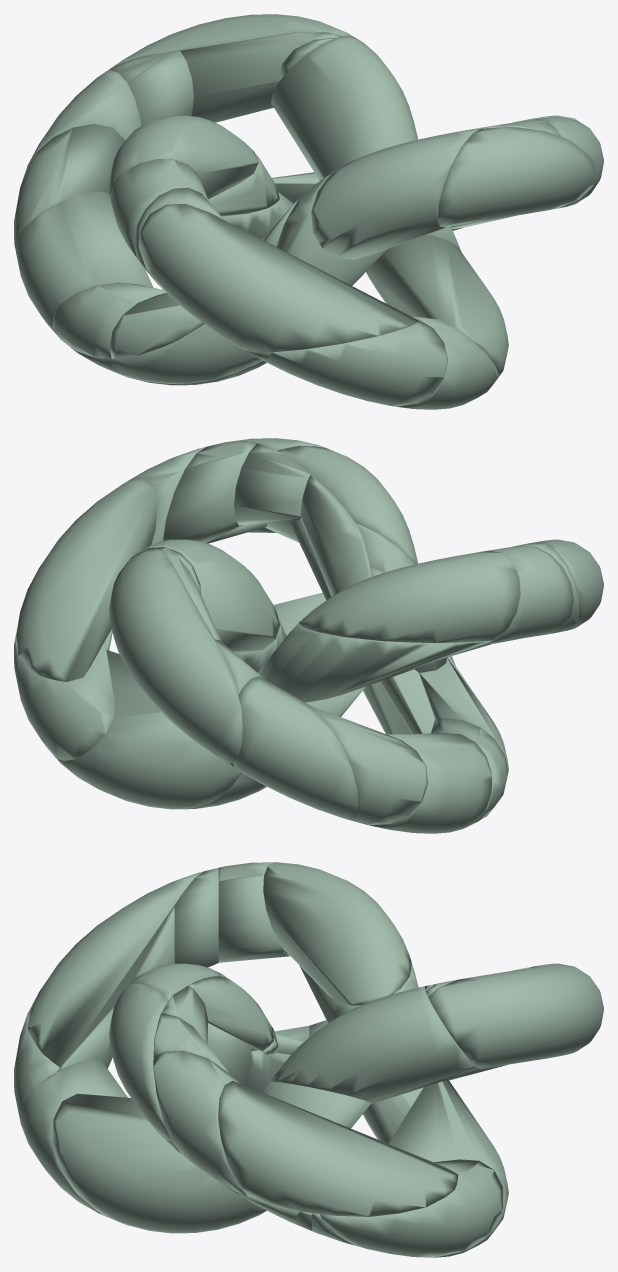
The model's file is collision-hulls.glb.
3 renders of one model, top to bottom at view 1: azimuth 30°, elevation 25°; view 2: azimuth 150°, elevation 25°; view 3: azimuth 270°, elevation 25°, orthographic.
Visible parts, largest first — view 1: fragment-016-hull-00, fragment-011-hull-00, fragment-024-hull-00, fragment-025-hull-00, fragment-001-hull-00, fragment-009-hull-00, fragment-015-hull-00, fragment-023-hull-00, fragment-020-hull-00, fragment-021-hull-00, fragment-026-hull-00, fragment-014-hull-02 (+13 smaller); view 2: fragment-004-hull-00, fragment-018-hull-00, fragment-020-hull-00, fragment-012-hull-00, fragment-023-hull-02, fragment-019-hull-00, fragment-013-hull-00, fragment-001-hull-00, fragment-021-hull-00, fragment-011-hull-00, fragment-017-hull-01, fragment-024-hull-00 (+17 smaller); view 3: fragment-018-hull-00, fragment-009-hull-00, fragment-020-hull-00, fragment-011-hull-00, fragment-004-hull-00, fragment-016-hull-00, fragment-013-hull-00, fragment-017-hull-00, fragment-012-hull-00, fragment-025-hull-00, fragment-005-hull-03, fragment-008-hull-00 (+14 smaller).
Part boxes in pixels (x1,y1,x2,y2): fragment-016-hull-00: (139, 204, 418, 352); fragment-011-hull-00: (271, 35, 417, 180); fragment-024-hull-00: (311, 129, 479, 259); fragment-025-hull-00: (437, 127, 594, 227); fragment-001-hull-00: (14, 191, 153, 335); fragment-009-hull-00: (367, 235, 508, 376); fragment-015-hull-00: (245, 321, 447, 406); fragment-023-hull-00: (180, 32, 342, 122); fragment-020-hull-00: (109, 115, 258, 199); fragment-021-hull-00: (14, 124, 124, 243); fragment-026-hull-00: (71, 239, 263, 383); fragment-014-hull-02: (52, 282, 166, 358); fragment-004-hull-00: (109, 547, 242, 763); fragment-018-hull-00: (15, 478, 157, 682); fragment-020-hull-00: (298, 550, 520, 642); fragment-012-hull-00: (53, 650, 241, 809); fragment-023-hull-02: (232, 676, 358, 819); fragment-019-hull-00: (258, 623, 493, 702); fragment-013-hull-00: (14, 630, 115, 760); fragment-001-hull-00: (369, 733, 491, 833); fragment-021-hull-00: (310, 705, 427, 825); fragment-011-hull-00: (133, 539, 280, 653); fragment-017-hull-01: (163, 441, 256, 542); fragment-024-hull-00: (265, 445, 417, 564); fragment-018-hull-00: (218, 1081, 458, 1216); fragment-009-hull-00: (52, 1093, 266, 1233); fragment-020-hull-00: (263, 862, 411, 1005); fragment-011-hull-00: (269, 986, 480, 1104); fragment-004-hull-00: (428, 964, 603, 1068); fragment-016-hull-00: (27, 871, 203, 1067); fragment-013-hull-00: (319, 1159, 503, 1257); fragment-017-hull-00: (153, 1050, 247, 1195); fragment-012-hull-00: (388, 1079, 508, 1257); fragment-025-hull-00: (109, 983, 171, 1140); fragment-005-hull-03: (218, 862, 289, 962); fragment-008-hull-00: (18, 1059, 128, 1225).
Bounding box in the file's own units: 0.1533 × 0.0728 × 0.16.
